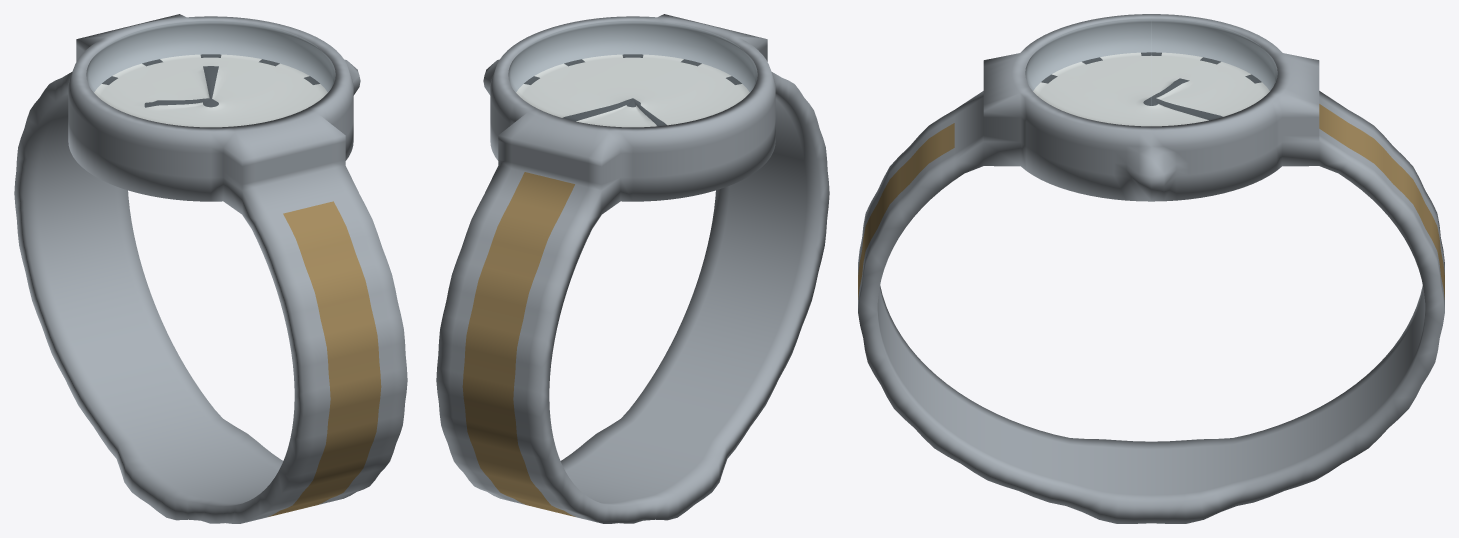
Rendered from A-NEW-20261027-WRISTWATCH-001_LOD1_R3.glb.
The picture shows the model from 3 angles, left to right: view 1: azimuth 30°, elevation 25°; view 2: azimuth 150°, elevation 25°; view 3: azimuth 270°, elevation 25°; orthographic projection.
Parts seen in each view (by area): view 1: original wristwatch case dial crown and linked band, plain clear protective crystal; view 2: original wristwatch case dial crown and linked band, plain clear protective crystal; view 3: original wristwatch case dial crown and linked band, plain clear protective crystal.
Boxes of the visible parts, bbox=[...] form: original wristwatch case dial crown and linked band: bbox=[14, 14, 407, 523]; plain clear protective crystal: bbox=[86, 21, 335, 126]; original wristwatch case dial crown and linked band: bbox=[436, 14, 829, 523]; plain clear protective crystal: bbox=[508, 21, 757, 126]; original wristwatch case dial crown and linked band: bbox=[858, 14, 1444, 523]; plain clear protective crystal: bbox=[1025, 18, 1277, 125].
Size of the model in its own units: 0.0472 by 0.0697 by 0.0874.
